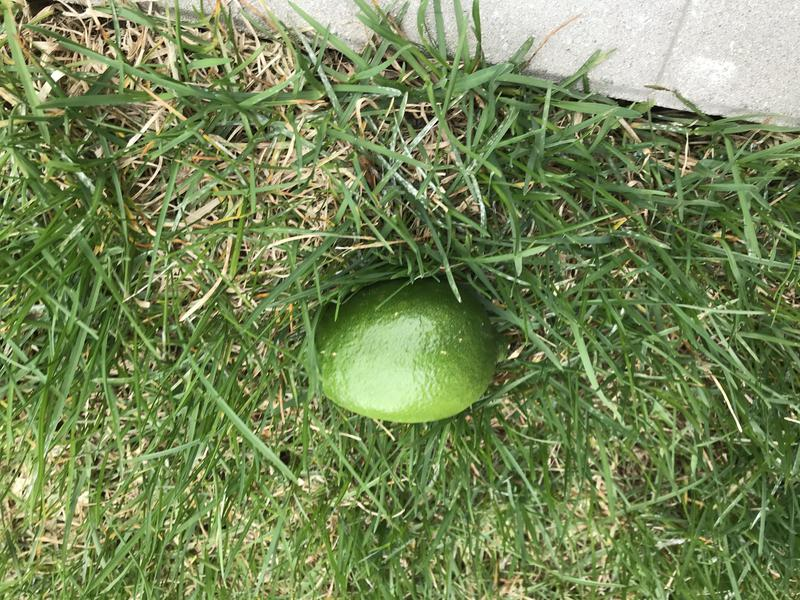lime: (296, 272, 523, 442)
